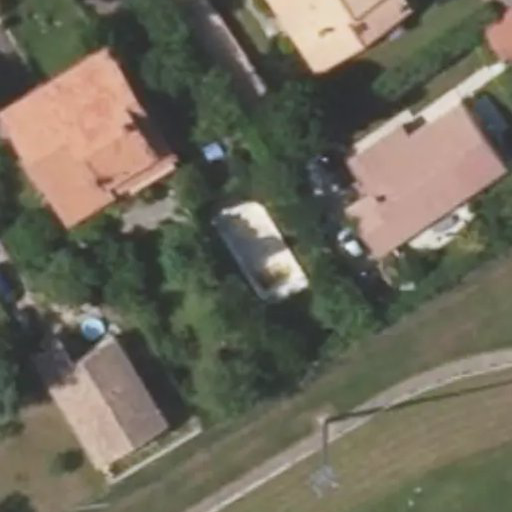pool: (211, 214, 300, 269)
